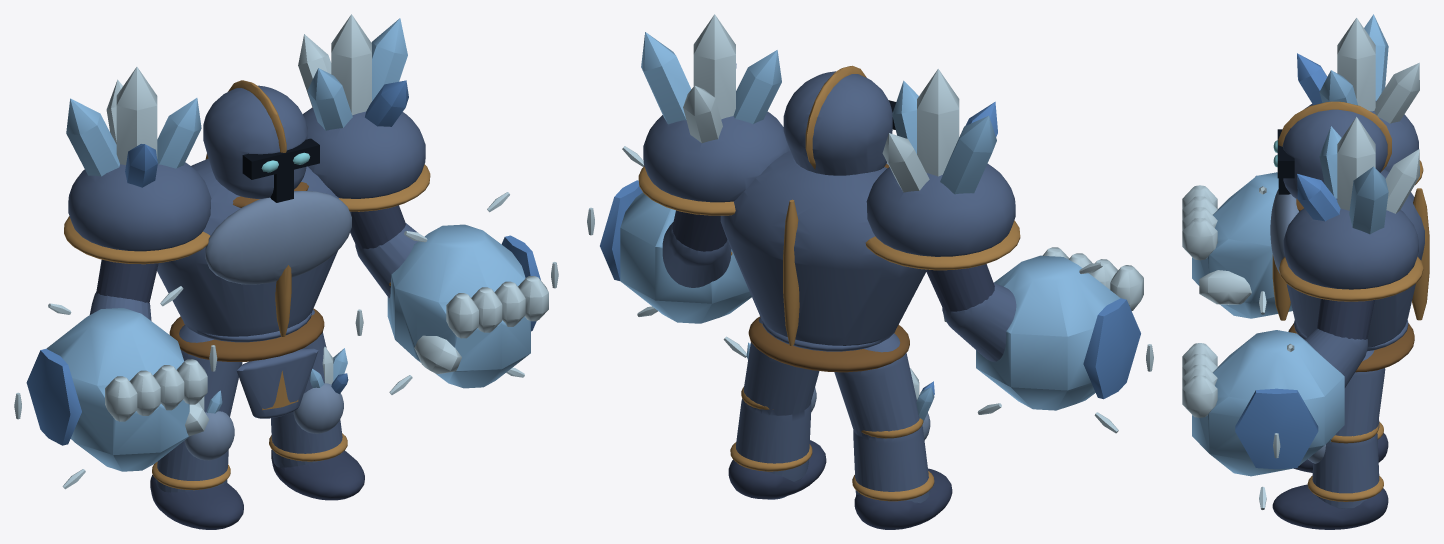
The model's file is glaciarm.glb.
3 renders of one model, left to right at view 1: azimuth 30°, elevation 25°; view 2: azimuth 150°, elevation 25°; view 3: azimuth 270°, elevation 25°, orthographic. The views are drawn at different scales.
Visible parts, largest first — view 1: creature; view 2: creature; view 3: creature.
Part boxes in pixels (x1,y1,x2,y2): creature: [14, 14, 558, 529]; creature: [587, 14, 1153, 529]; creature: [1182, 14, 1429, 529].
Size of the model in its own units: 1.25 by 1 by 0.5211.
